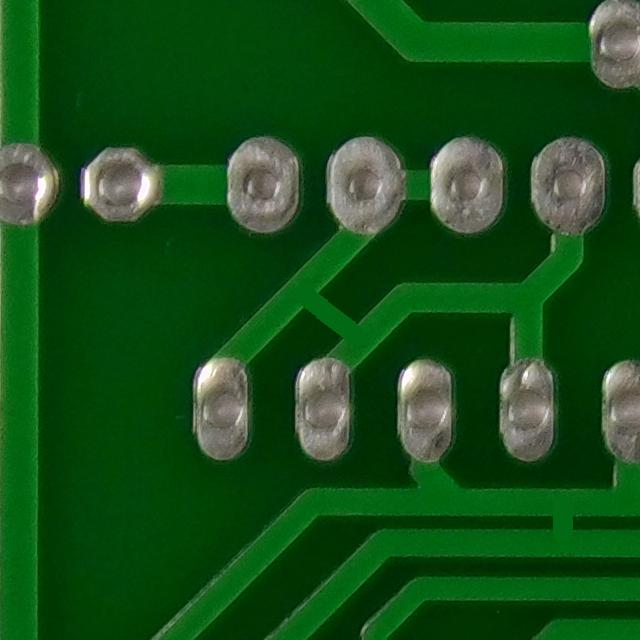short: (264, 272, 377, 368)
